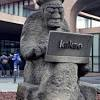Stone Statue: (16, 0, 96, 100)
